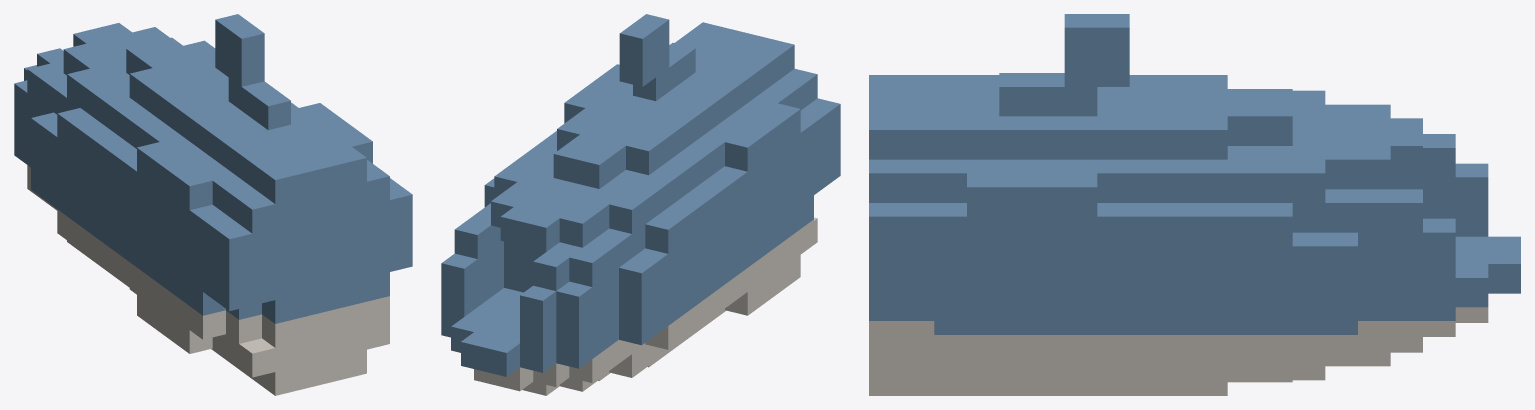
File: dolphin__body.glb
3 views of the same model, side by side, from view 1: azimuth 30°, elevation 25°; view 2: azimuth 150°, elevation 25°; view 3: azimuth 270°, elevation 25° (orthographic). The views are drawn at different scales.
Visible parts, largest first — view 1: dolphin__body; view 2: dolphin__body; view 3: dolphin__body.
Boxes of the visible parts, bbox=[...] form: dolphin__body: bbox=[14, 14, 412, 395]; dolphin__body: bbox=[441, 14, 840, 395]; dolphin__body: bbox=[869, 14, 1520, 395].
Size of the model in its own units: 0.8 by 1.2 by 2.
1 material, 1 textured.
